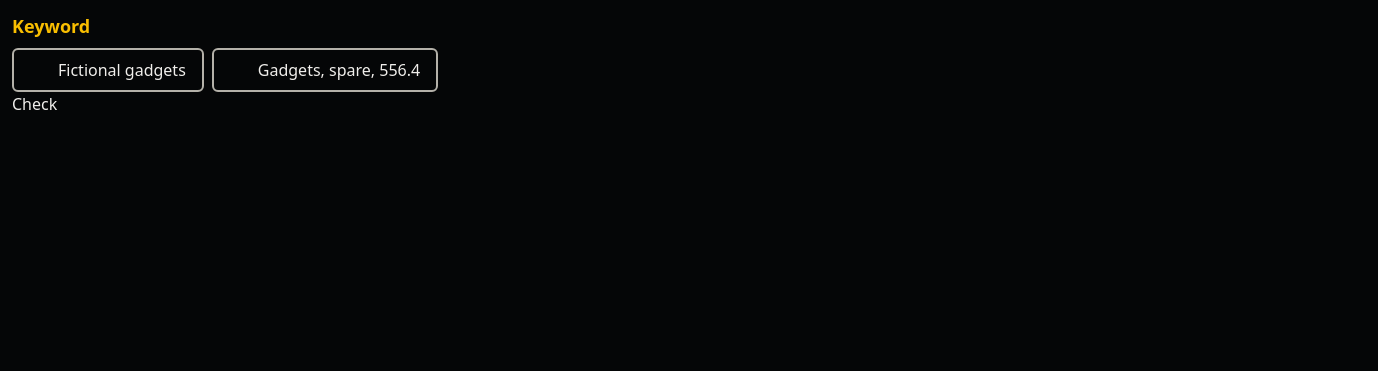
Test: StepFlow under Index Keyword Lookup › shows the Index step as one heading holding two clicks and records two picks
Click the button "Fictional gadgets" at {"x": 108, "y": 70}, box [12, 48, 204, 92]
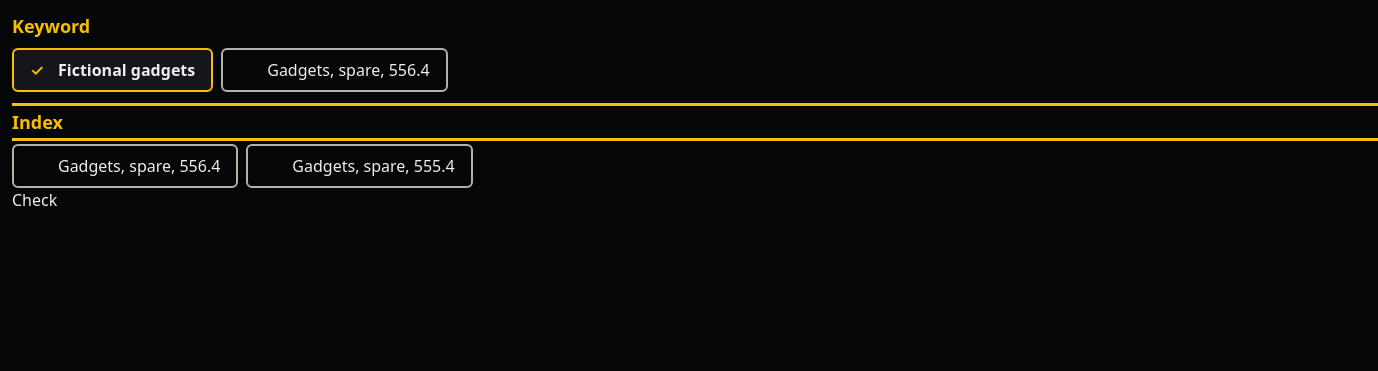
Click the button "Gadgets, spare, 555.4" at {"x": 360, "y": 166}, box [246, 144, 473, 188]
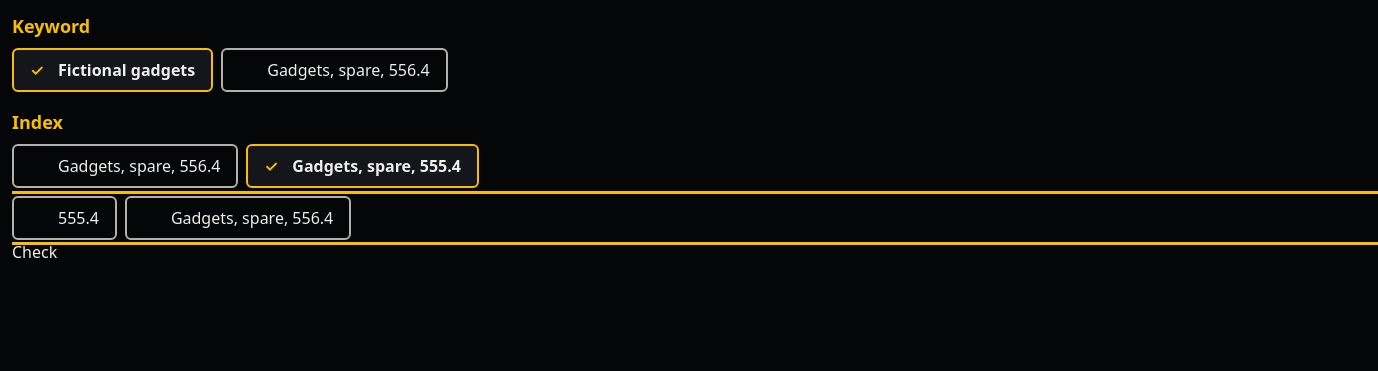
Now the number of headings "Index" is 1, box [12, 110, 63, 134]
Click the button "555.4" at {"x": 64, "y": 218}, box [12, 196, 117, 240]
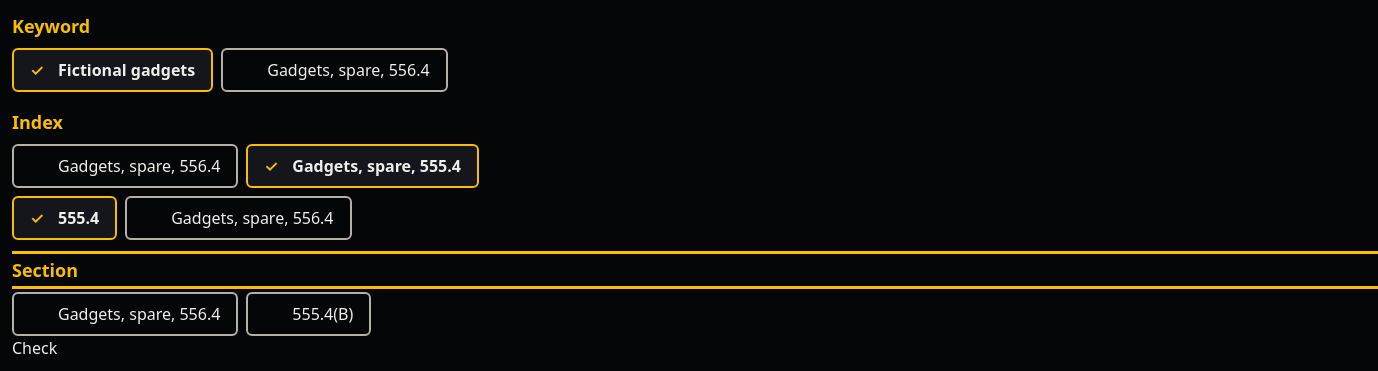
Now the number of headings "Index" is 1, box [12, 110, 63, 134]
